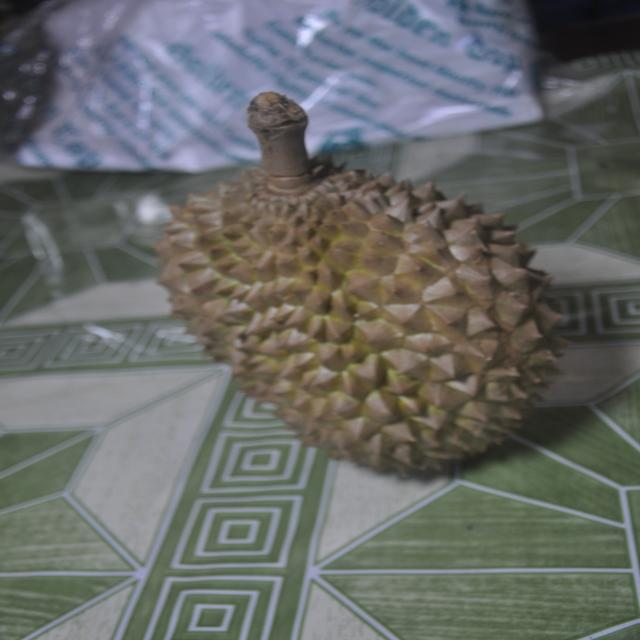mature: (156, 92, 566, 472)
